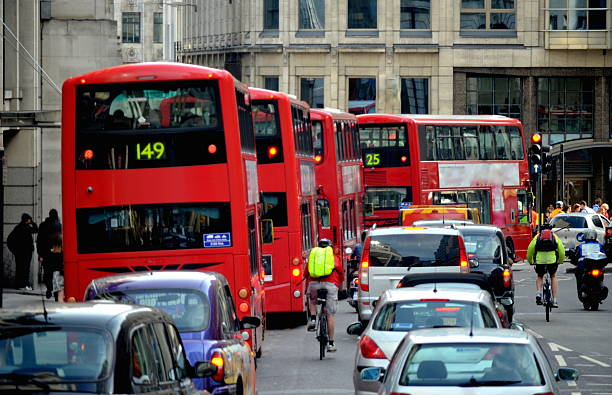bus: (63, 68, 258, 328), (360, 115, 531, 254), (249, 89, 311, 322), (314, 110, 363, 284)
car: (87, 273, 254, 395), (1, 300, 195, 395), (356, 290, 490, 385), (386, 332, 558, 395), (361, 232, 465, 311), (459, 220, 515, 308), (549, 213, 612, 267)
